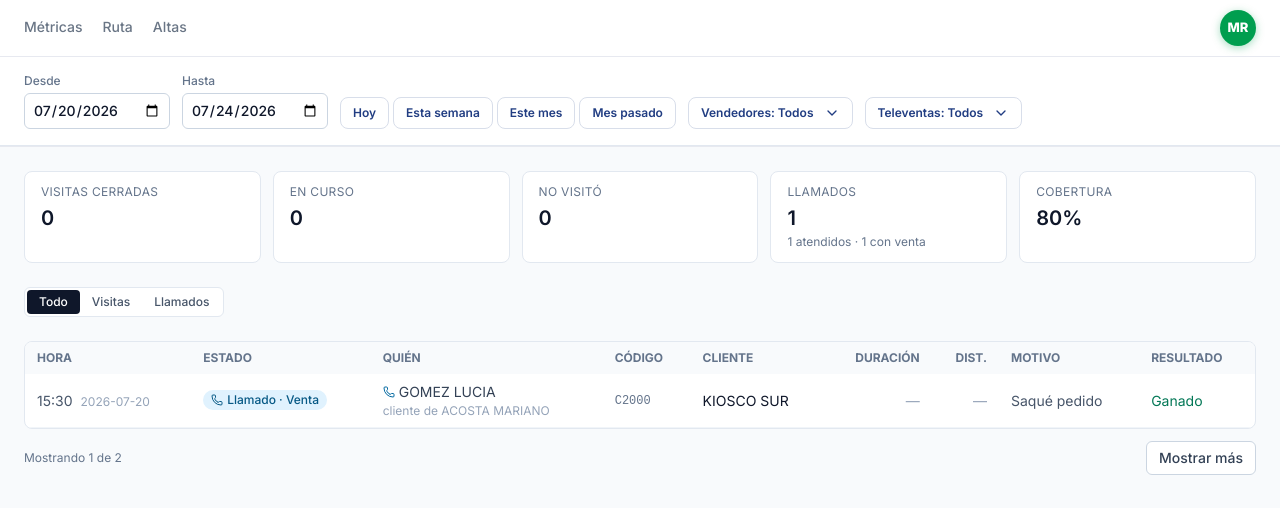
Test: /analitica/actividad › pagina de a 100 y "Mostrar más" pide la página siguiente
The width and height of the screenshot is (1280, 508).
Expected: the text "KIOSCO SUR" is shown, [691,374,824,428]
Expected: the text "Mostrando 1 de 2" is shown, [24,450,122,466]
Click the button "Mostrar más": click(1201, 458) [1146,441,1256,475]
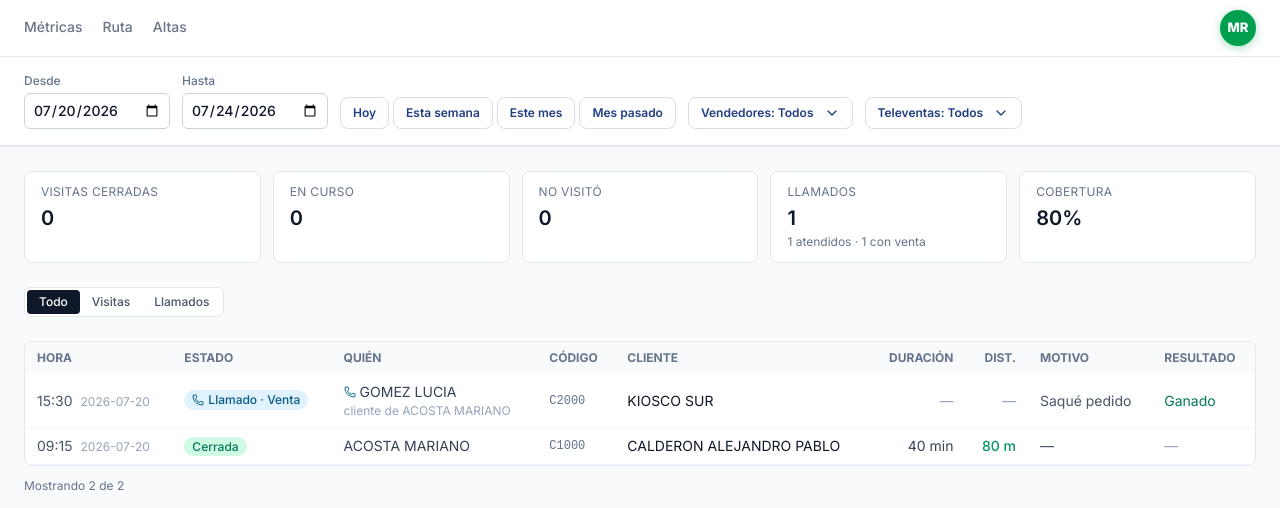
Expected: the text "CALDERON ALEJANDRO PABLO" is shown, [615,428,870,464]
Expected: the button "Mostrar más" is gone
